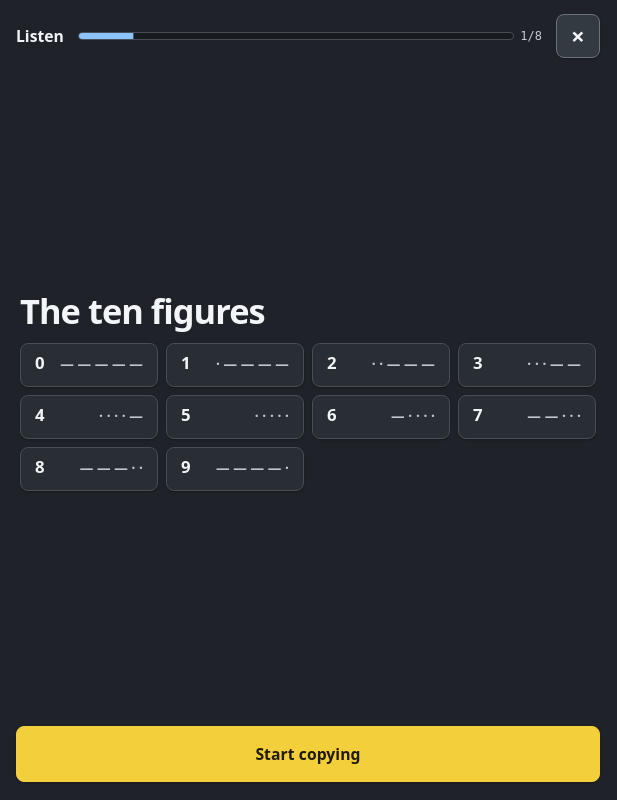
it: a copy run › introduces the figures before the numbers level asks for them
Expected: the heading "The ten figures" is shown, [20, 287, 265, 334]
Click the button "Start copying" at (308, 754), box [16, 726, 600, 782]
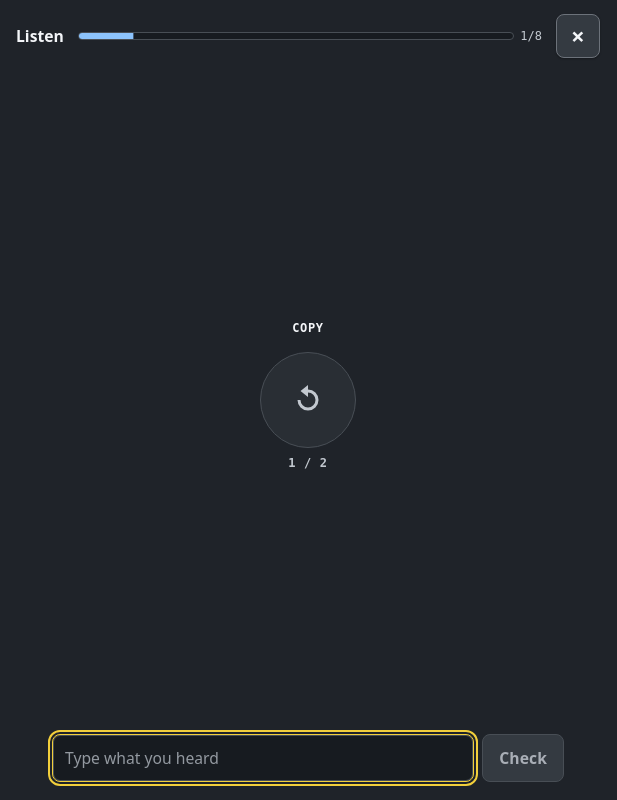
Now the field labelled "what you heard" is shown, box [52, 734, 474, 782]
